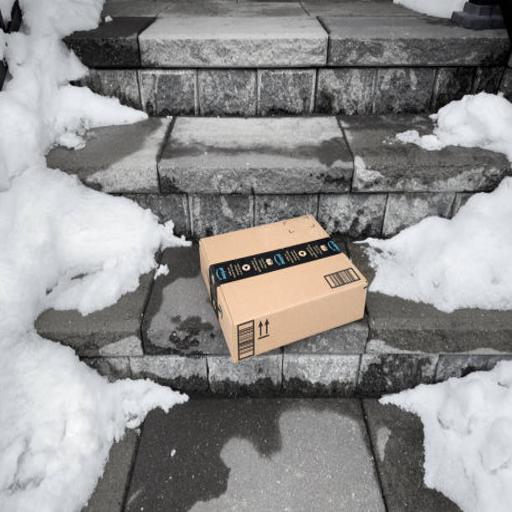Amazon: (200, 209, 369, 363)
